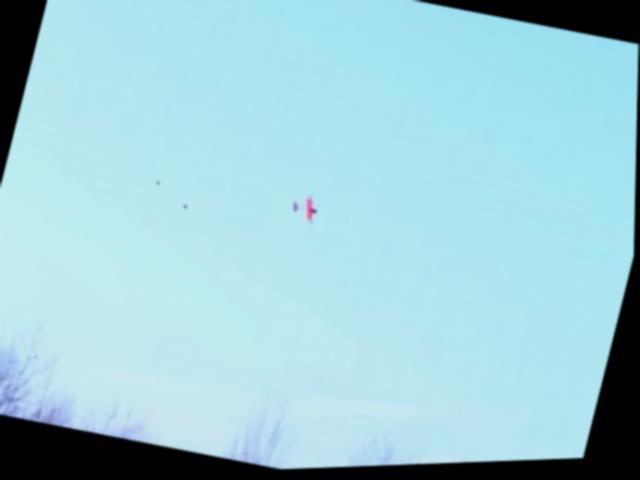uav: (280, 185, 333, 235)
